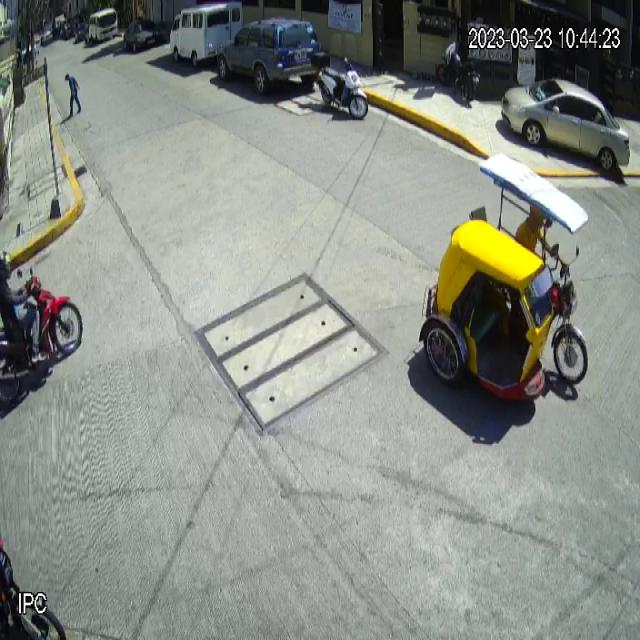Car: (501, 78, 630, 171), (216, 16, 323, 96)
Motorcycle: (312, 54, 368, 120)
Tricycle: (418, 153, 591, 405)
Van: (169, 0, 242, 69)
